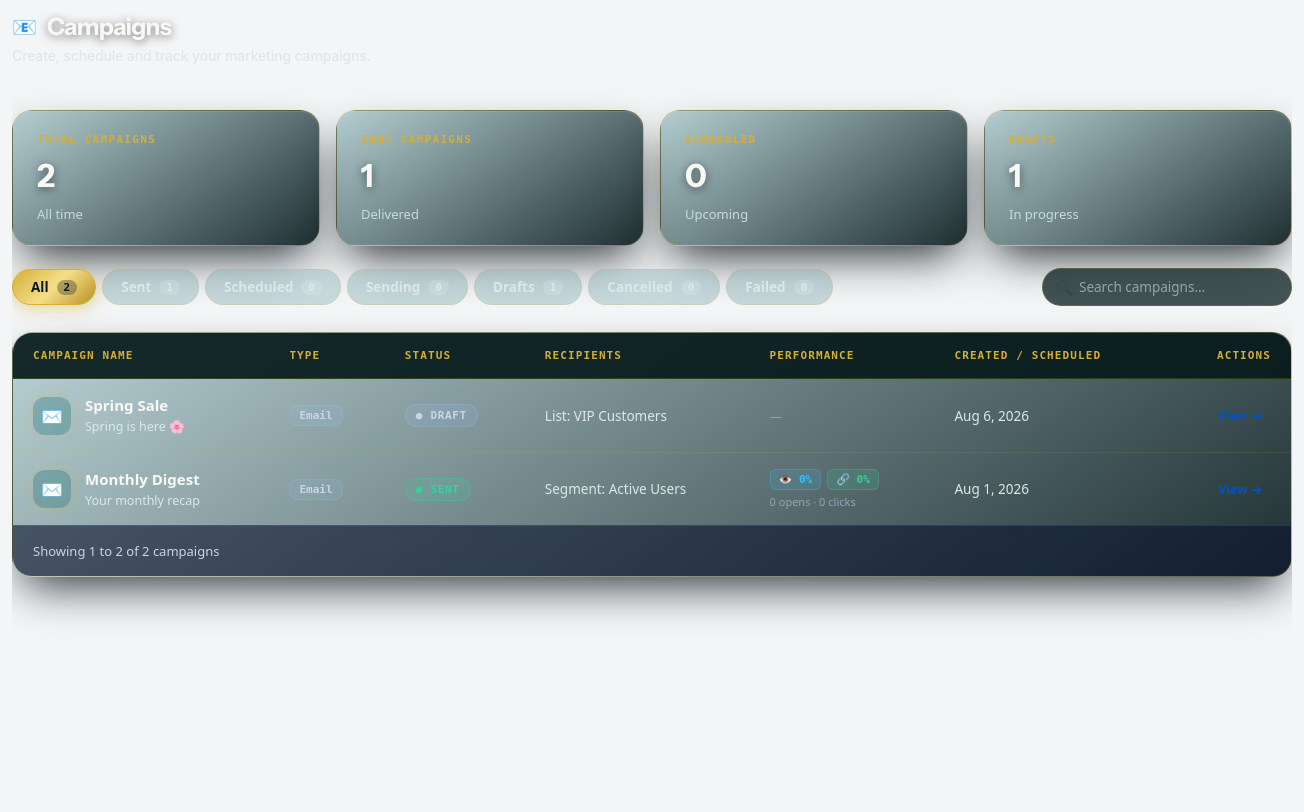
CampaignsPage › filters the list by search query
This screenshot has width=1304, height=812.
Check: the link "Spring Sale" is shown, box [85,395,168,415]
Check: the link "Monthly Digest" is shown, box [85,469,200,489]
Type "monthly" into the field labelled "Search campaigns". click: x=1167, y=287
box: [1042,268,1292,306]
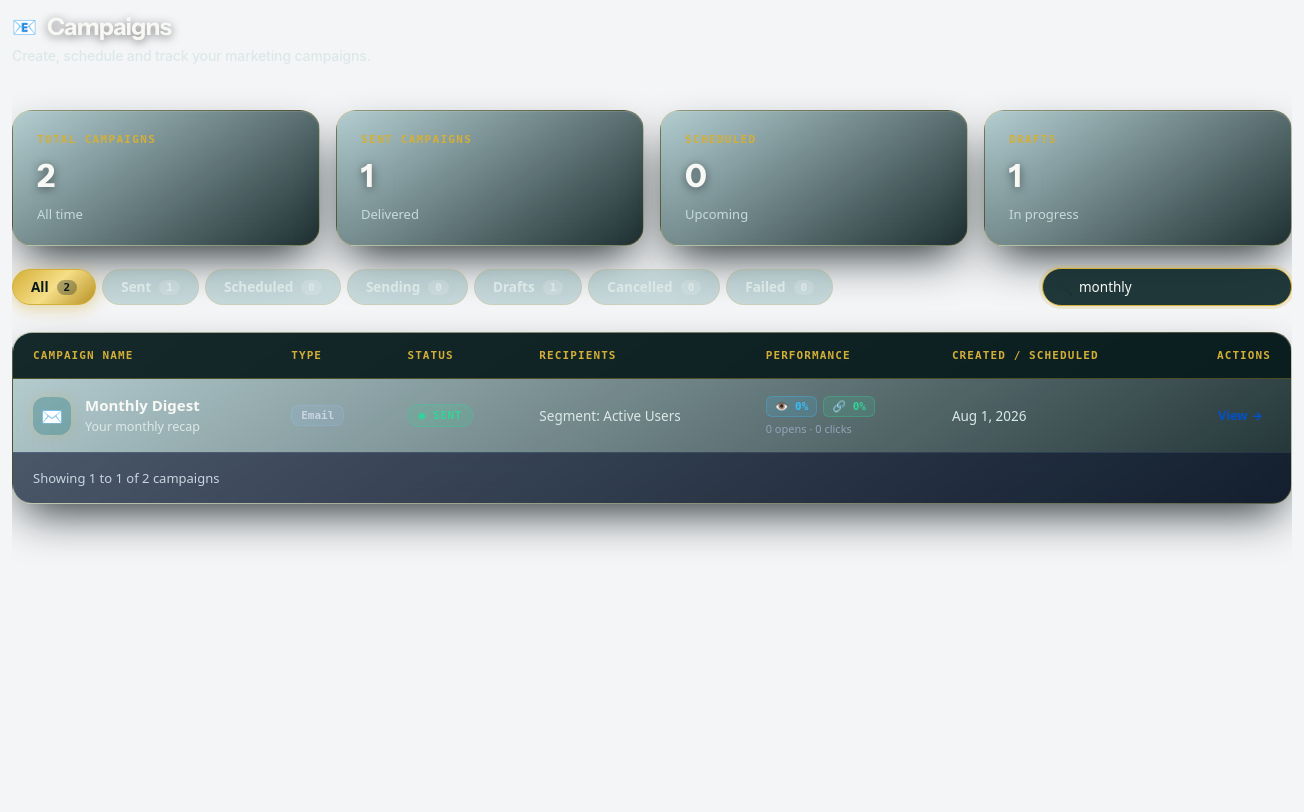
Check: the link "Monthly Digest" is shown, box [85,395,200,415]
Check: the link "Spring Sale" is gone
